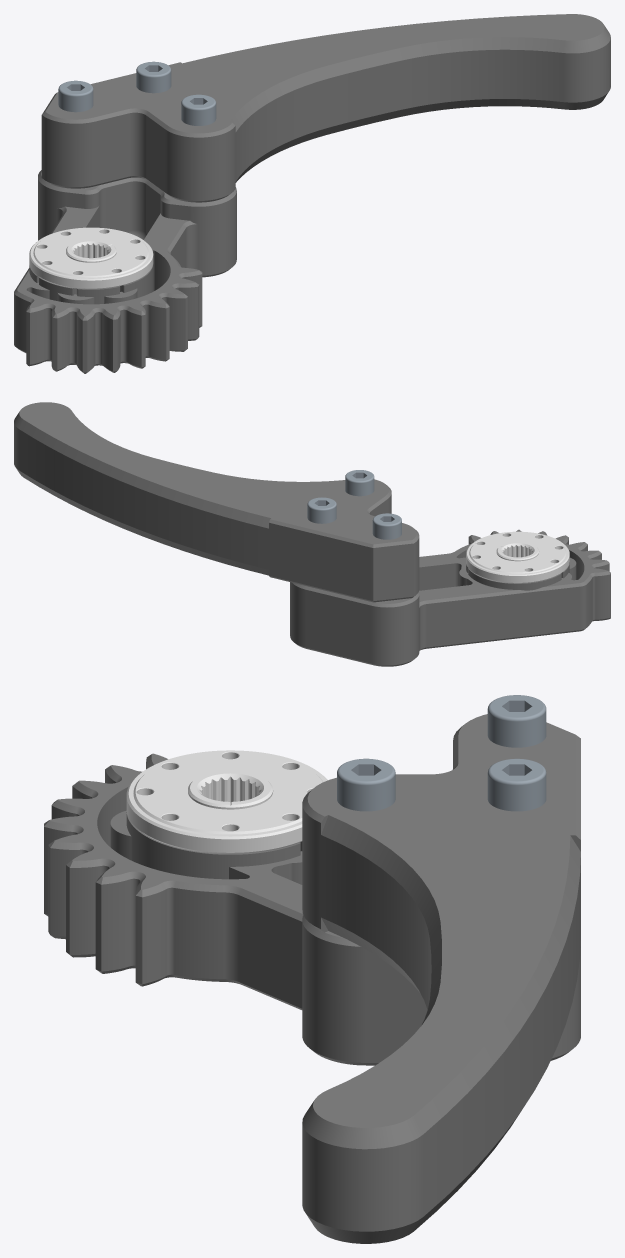
3 renders of one model, top to bottom at view 1: azimuth 30°, elevation 25°; view 2: azimuth 150°, elevation 25°; view 3: azimuth 270°, elevation 25°, orthographic. The views are drawn at different scales.
Visible parts, largest first — view 1: Finger(ChipStar)_a_rev1, finger_Horn, HN12-N101, Hex socket head cap screw M3x0.50 x 25 (×3); view 2: Finger(ChipStar)_a_rev1, finger_Horn, HN12-N101, Hex socket head cap screw M3x0.50 x 25 (×3); view 3: Finger(ChipStar)_a_rev1, finger_Horn, HN12-N101, Hex socket head cap screw M3x0.50 x 25 (×3).
Part boxes in pixels (<box>): Finger(ChipStar)_a_rev1: <box>41,14,610,202</box>; finger_Horn: <box>14,170,236,373</box>; HN12-N101: <box>29,227,153,289</box>; Hex socket head cap screw M3x0.50 x 25 (×3): <box>58,61,216,125</box>; Finger(ChipStar)_a_rev1: <box>14,402,419,602</box>; finger_Horn: <box>290,529,610,666</box>; HN12-N101: <box>466,531,569,583</box>; Hex socket head cap screw M3x0.50 x 25 (×3): <box>307,470,401,539</box>; Finger(ChipStar)_a_rev1: <box>302,714,580,1243</box>; finger_Horn: <box>44,753,580,1065</box>; HN12-N101: <box>126,750,327,853</box>; Hex socket head cap screw M3x0.50 x 25 (×3): <box>337,695,546,811</box>.
Bounding box in the file's own units: 0.1168 × 0.0504 × 0.028.
